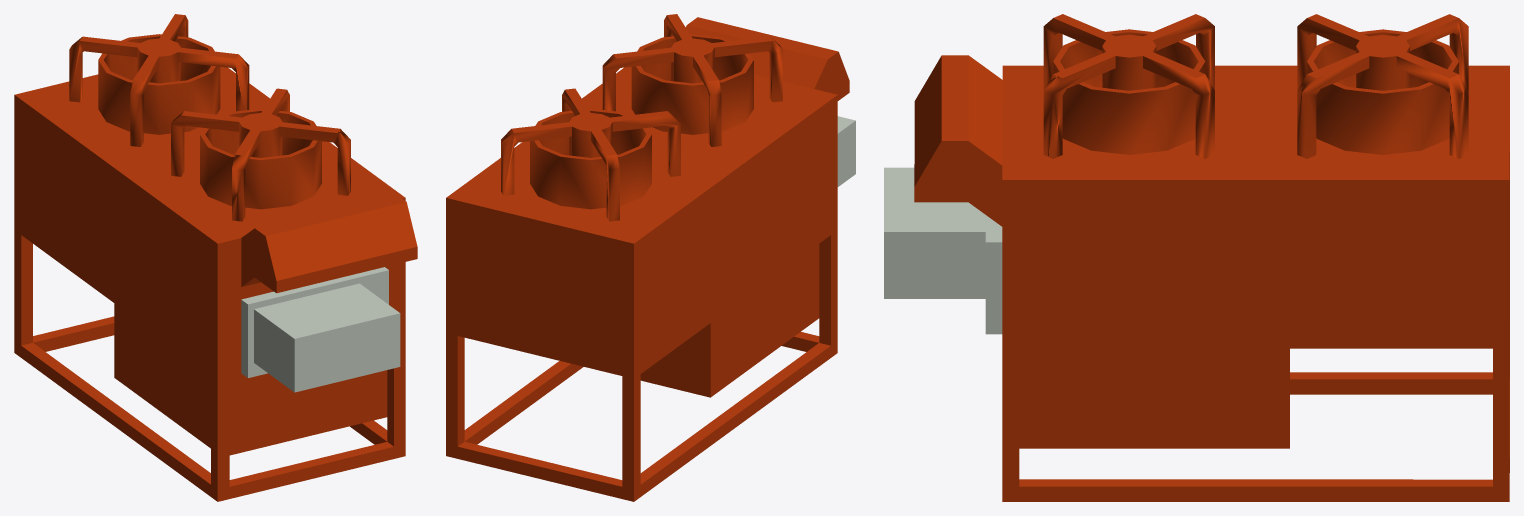
Rendered from Heater.glb.
3 renders of one model, left to right at view 1: azimuth 30°, elevation 25°; view 2: azimuth 150°, elevation 25°; view 3: azimuth 270°, elevation 25°, orthographic. The views are drawn at different scales.
Parts seen in each view (by area): view 1: 加温機_Resized; view 2: 加温機_Resized; view 3: 加温機_Resized.
Part boxes in pixels (left/top/right/bottom): 加温機_Resized: left=14, top=14, right=417, bottom=501; 加温機_Resized: left=446, top=14, right=855, bottom=501; 加温機_Resized: left=884, top=14, right=1509, bottom=501.
Bounding box in the file's own units: 0.8009 × 1.3 × 1.85.
